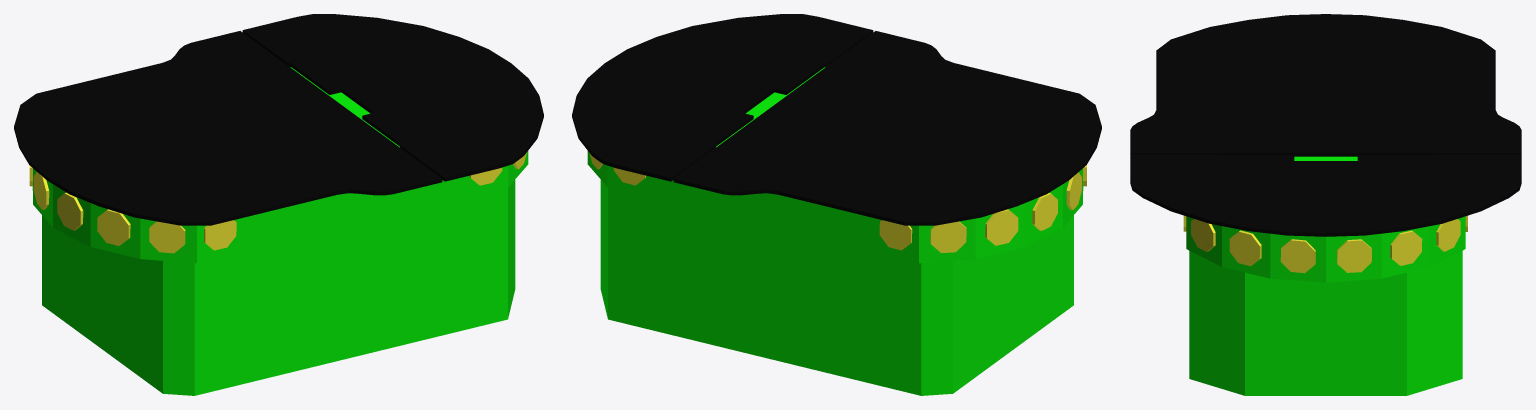
The model's file is chassis_g.dae.
The picture shows the model from 3 angles, left to right: view 1: azimuth 30°, elevation 25°; view 2: azimuth 150°, elevation 25°; view 3: azimuth 270°, elevation 25°; orthographic projection. The views are drawn at different scales.
Parts seen in each view (by area): view 1: chassis_top, chassis, sonarbank_001; view 2: chassis_top, chassis, sonarbank_001; view 3: chassis_top, chassis, sonarbank.
Boxes of the visible parts, x1,y1,x2,y2 form: chassis_top: [14, 14, 543, 225]; chassis: [32, 67, 528, 395]; sonarbank_001: [29, 165, 236, 253]; chassis_top: [572, 14, 1101, 225]; chassis: [587, 67, 1083, 395]; sonarbank_001: [879, 165, 1086, 252]; chassis_top: [1130, 14, 1521, 236]; chassis: [1186, 156, 1465, 395]; sonarbank: [1183, 215, 1467, 273].
Size of the model in its own units: 0.5082 by 0.3831 by 0.195.
